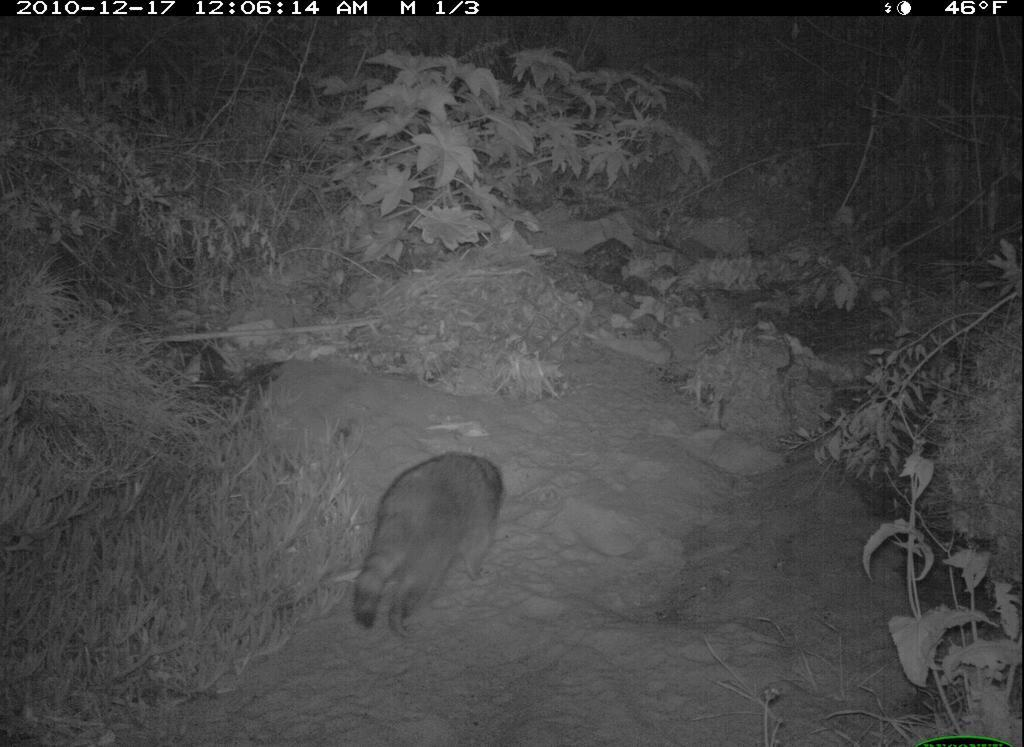raccoon: (349, 437, 511, 642)
